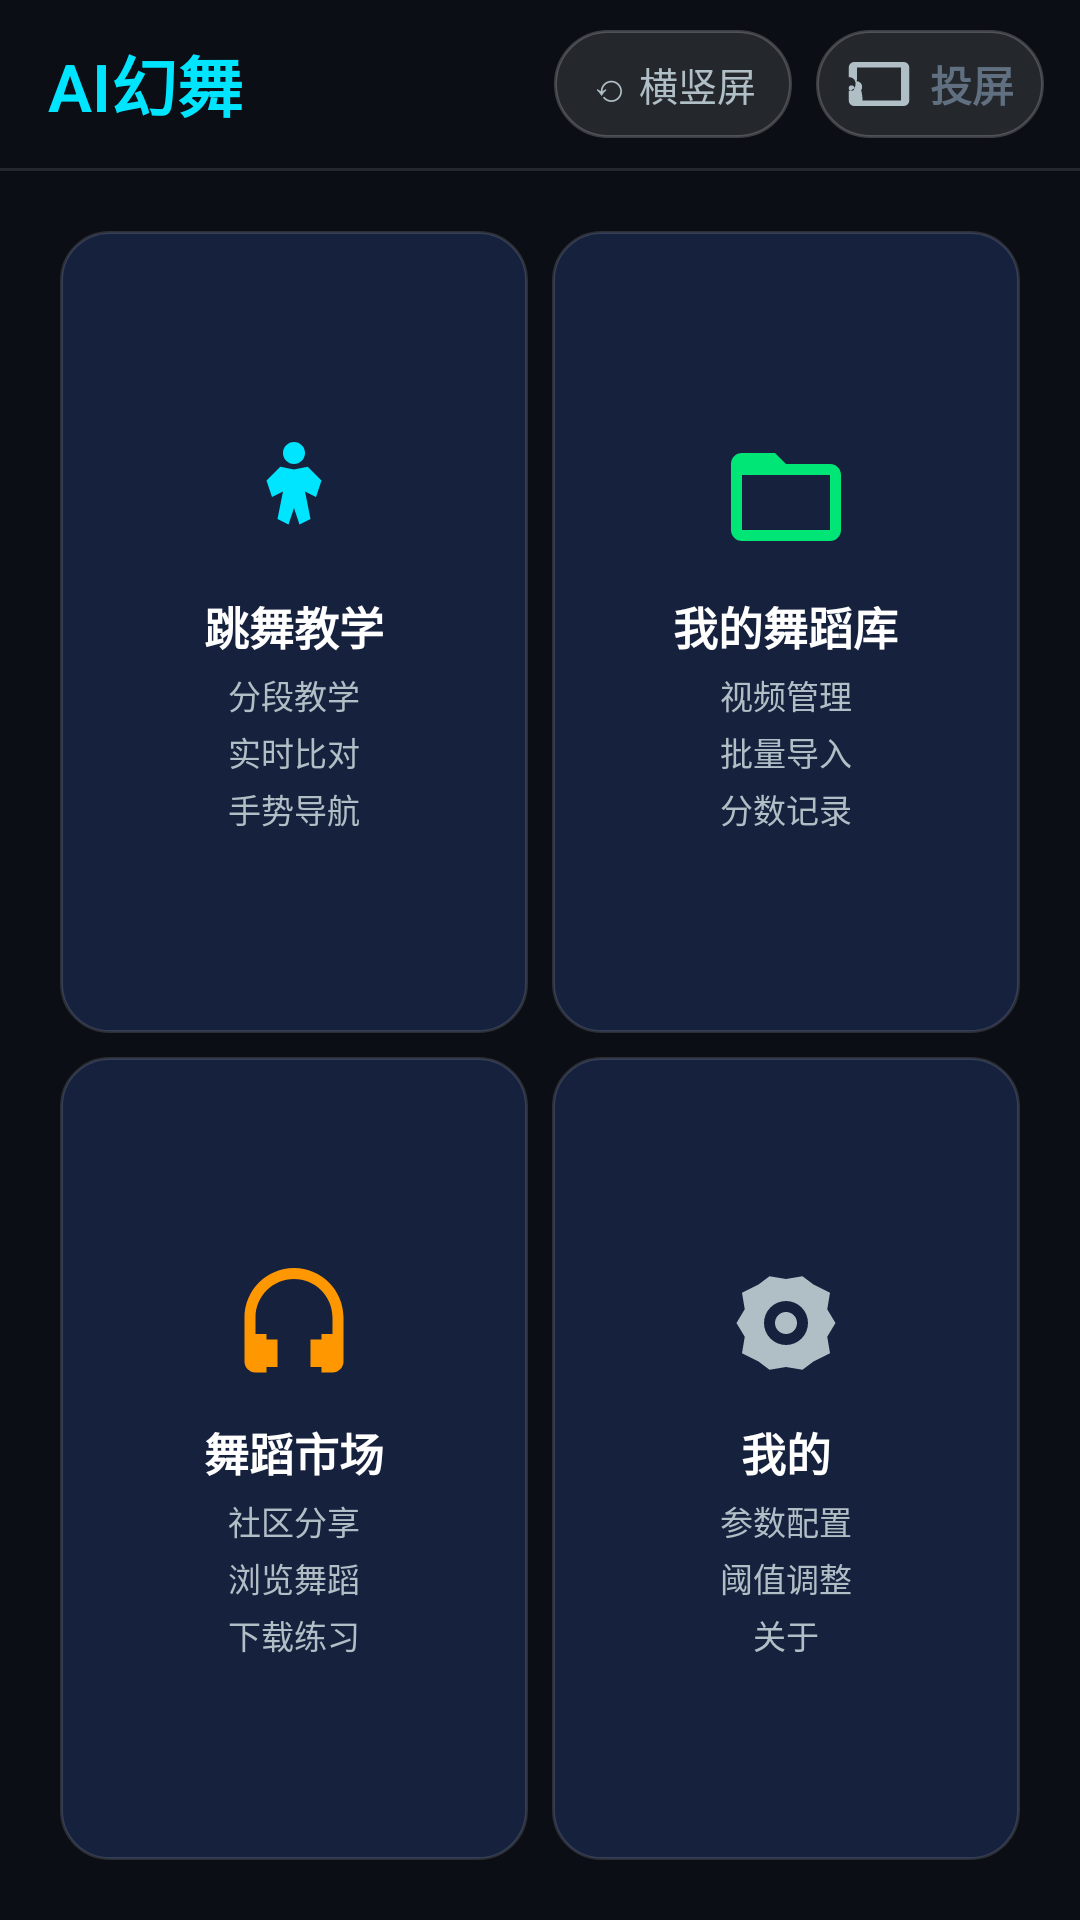

Screen size 1080px×1920px. Icon name, then its center in pixels as point (x, y):
library: point (786, 497)
settings: point (786, 1323)
